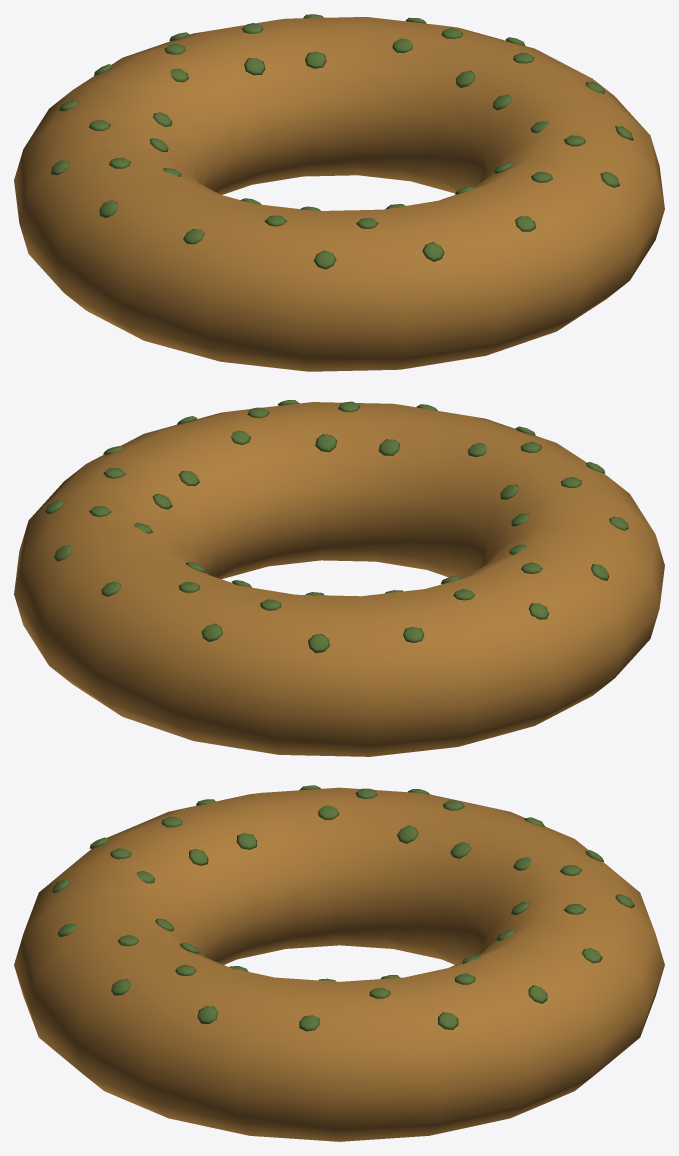
The model's file is Onion_Ring.fbx.
The picture shows the model from 3 angles, top to bottom: view 1: azimuth 30°, elevation 25°; view 2: azimuth 150°, elevation 25°; view 3: azimuth 270°, elevation 25°; orthographic projection.
Visible parts, largest first — view 1: Onion_Ring; view 2: Onion_Ring; view 3: Onion_Ring.
Boxes of the visible parts, bbox=[...] form: Onion_Ring: bbox=[14, 14, 664, 371]; Onion_Ring: bbox=[14, 400, 664, 756]; Onion_Ring: bbox=[14, 785, 664, 1141].
Bounding box in the file's own units: 2 × 0.4642 × 2.
